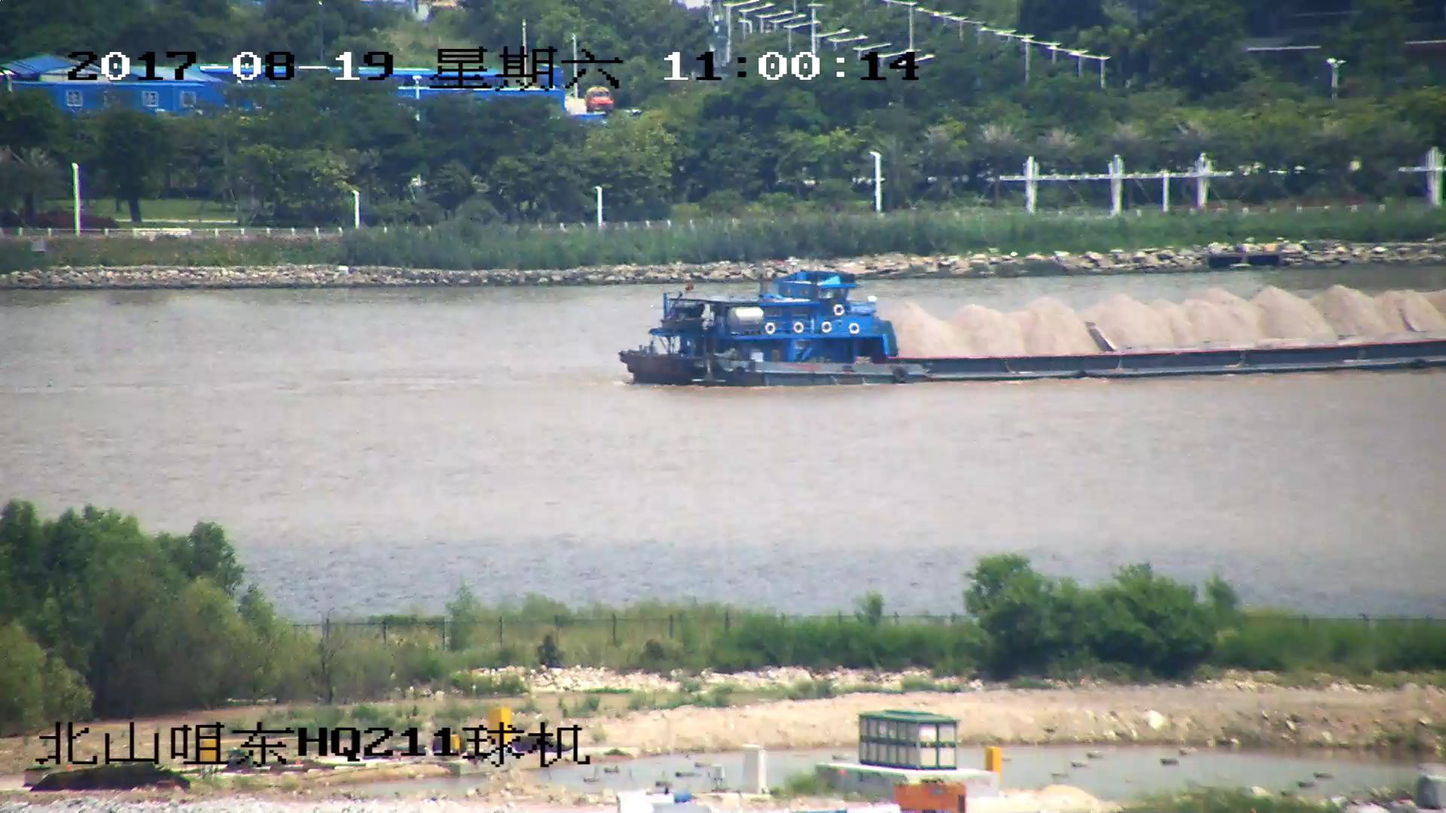ore carrier: (615, 266, 1445, 388)
